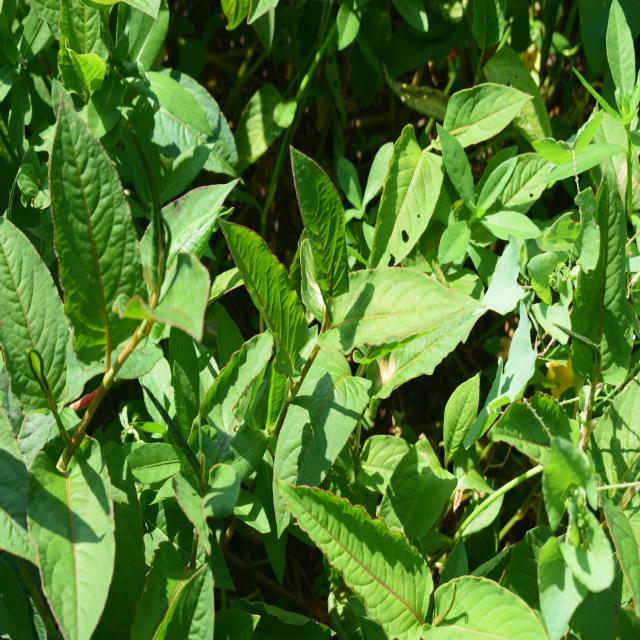Chinese_knotweed: (0, 102, 220, 407), (234, 152, 467, 420)
